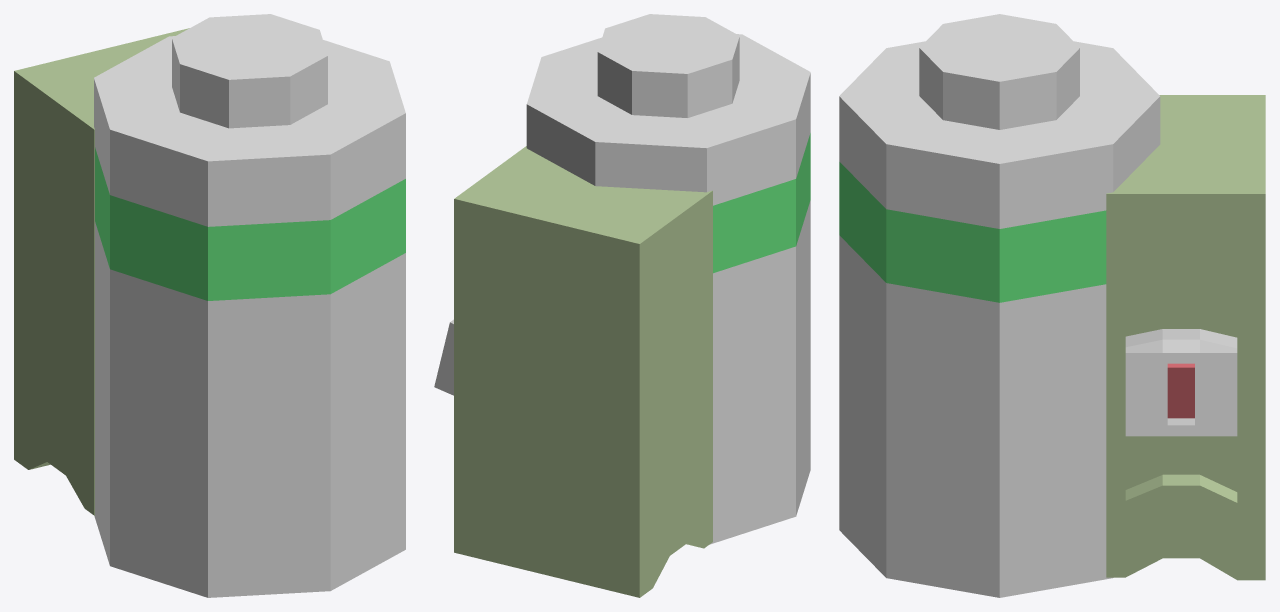
File: торговый-автомат-батарейка.fbx
3 views of the same model, side by side, from view 1: azimuth 30°, elevation 25°; view 2: azimuth 150°, elevation 25°; view 3: azimuth 270°, elevation 25° (orthographic). The views are drawn at different scales.
Parts seen in each view (by area): view 1: Батарея, Автомат; view 2: Автомат, Батарея; view 3: Батарея, Автомат.
Boxes of the visible parts, box(x1,y1,x2,y2) form: Батарея: box(94, 14, 405, 597); Автомат: box(14, 28, 189, 515); Автомат: box(434, 146, 712, 597); Батарея: box(526, 14, 810, 544); Батарея: box(839, 14, 1160, 597); Автомат: box(1106, 95, 1265, 580).
Size of the model in its own units: 6.04 by 10.01 by 8.02.
